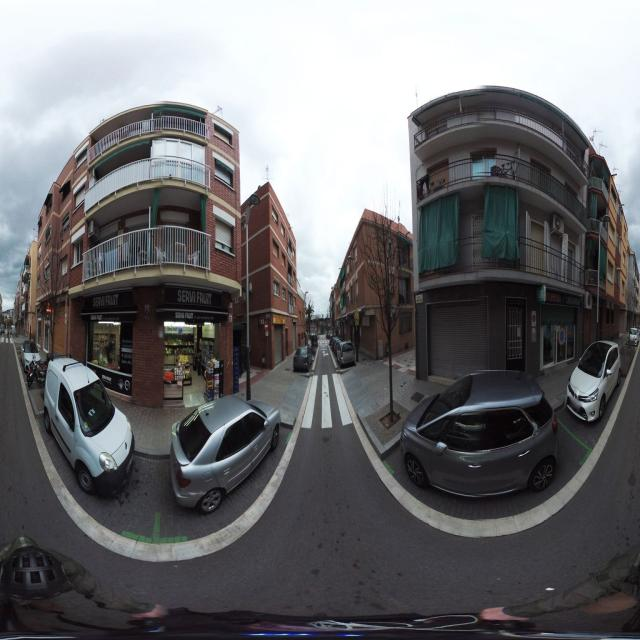forb_stopping: (558, 327, 565, 346)
